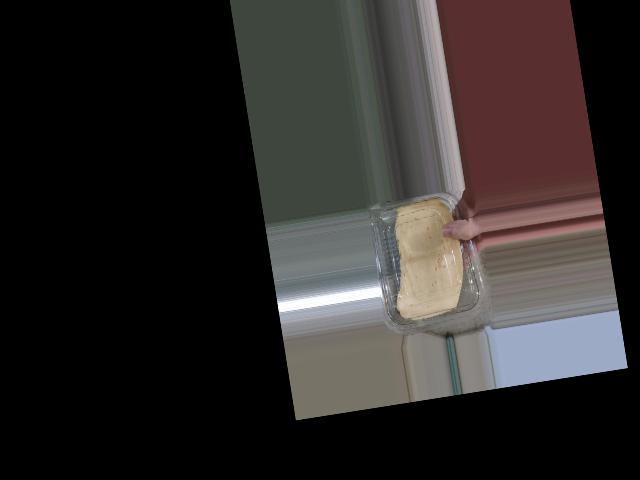cheese: (365, 189, 479, 337)
